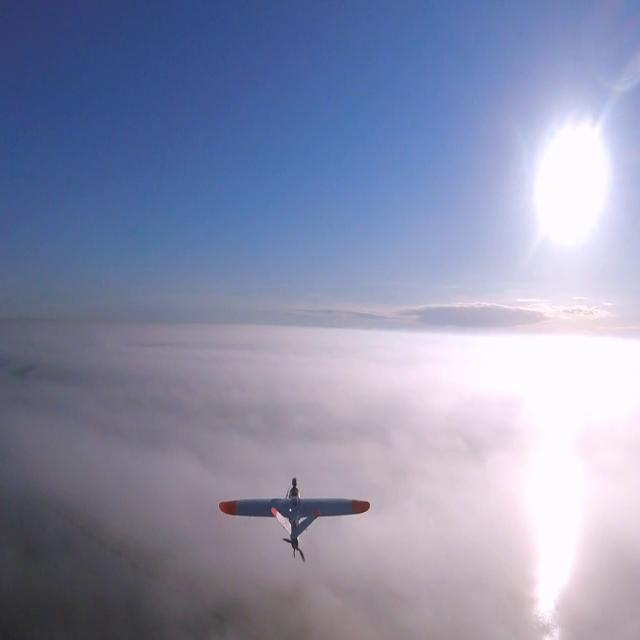iha: (218, 501, 374, 529)
